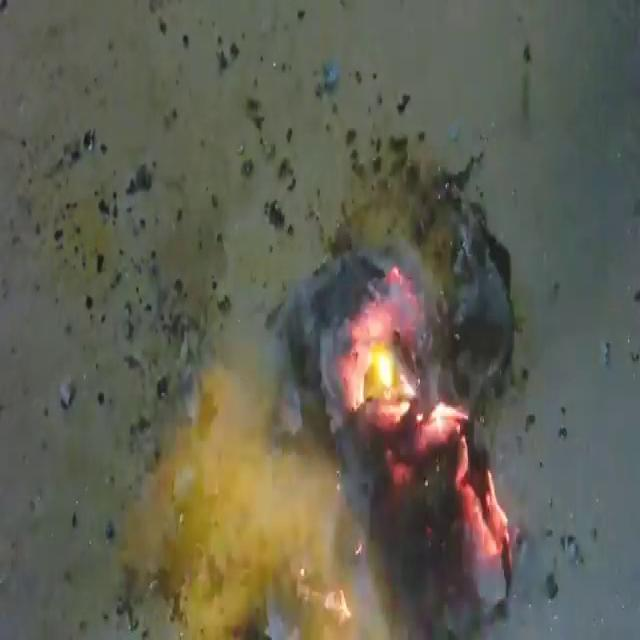Fire: (119, 246, 520, 636)
